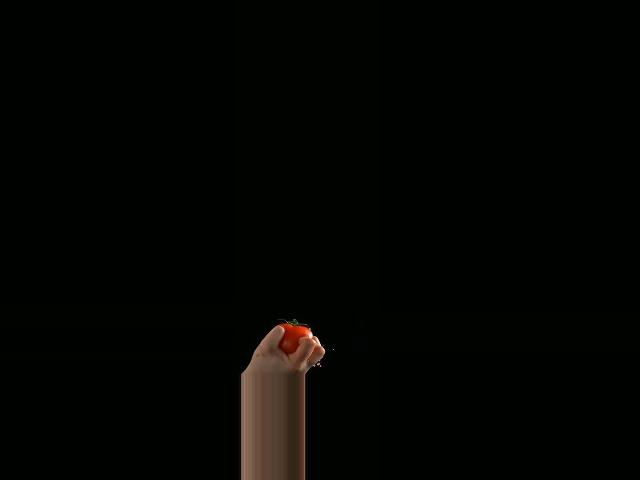tomato: (278, 323, 312, 354)
